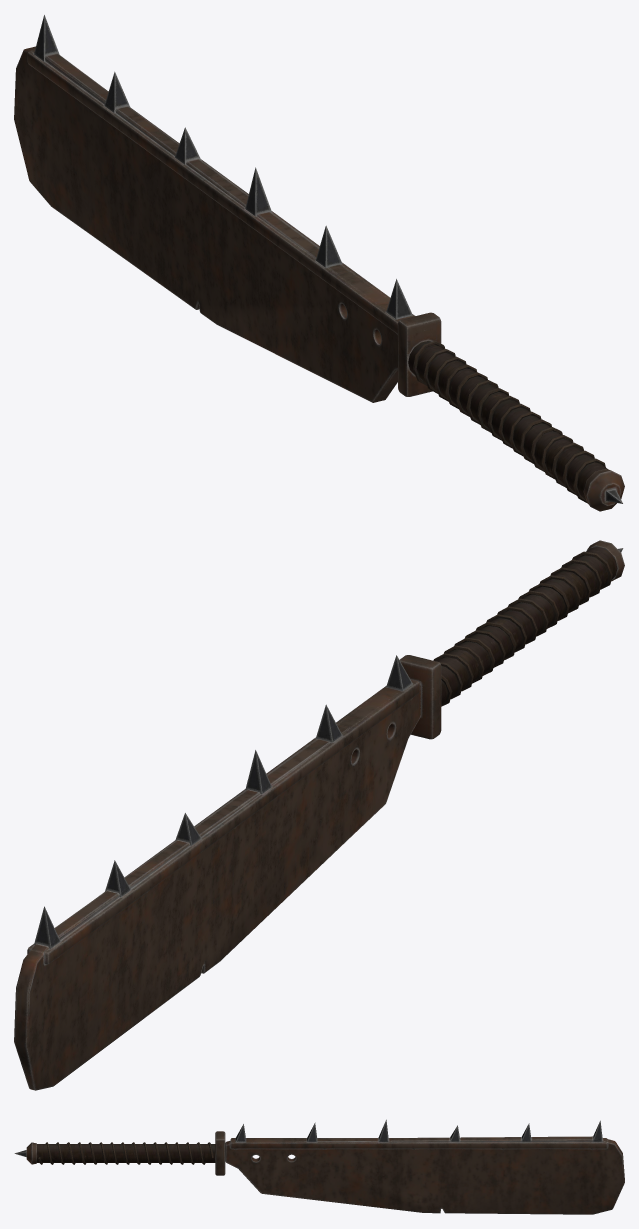
The model's file is tusker_heavy_cleaver.glb.
3 views of the same model, one above another, from view 1: azimuth 30°, elevation 25°; view 2: azimuth 150°, elevation 25°; view 3: azimuth 270°, elevation 25° (orthographic). The views are drawn at different scales.
Visible parts, largest first — view 1: tusker_heavy_cleaver; view 2: tusker_heavy_cleaver; view 3: tusker_heavy_cleaver.
Boxes of the visible parts, <box> form: tusker_heavy_cleaver: <box>14,15,624,511</box>; tusker_heavy_cleaver: <box>14,540,624,1090</box>; tusker_heavy_cleaver: <box>14,1119,624,1214</box>.
Size of the model in its own units: 0.045 by 0.2064 by 1.2.
1 material, 1 textured.
